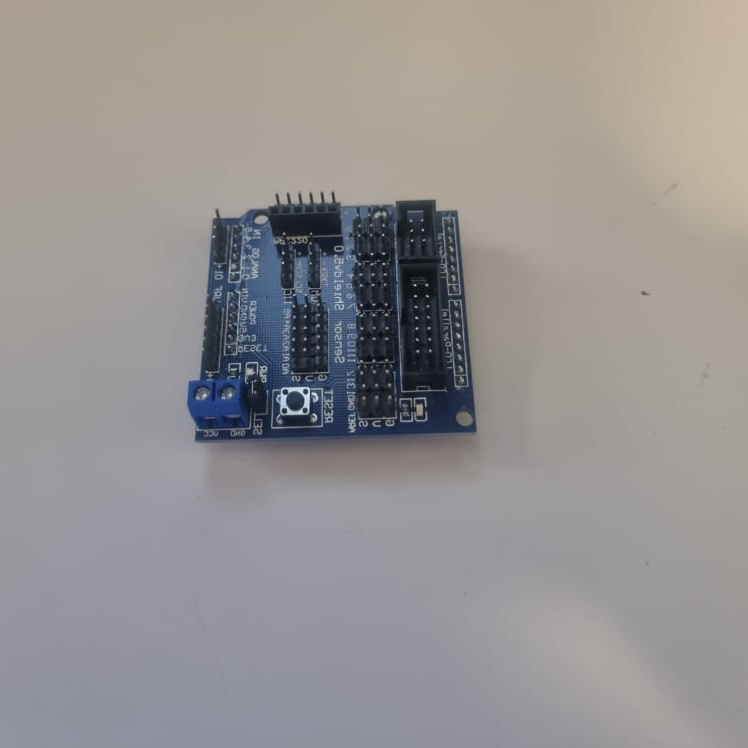5V EXPANSION: (182, 186, 480, 441)
